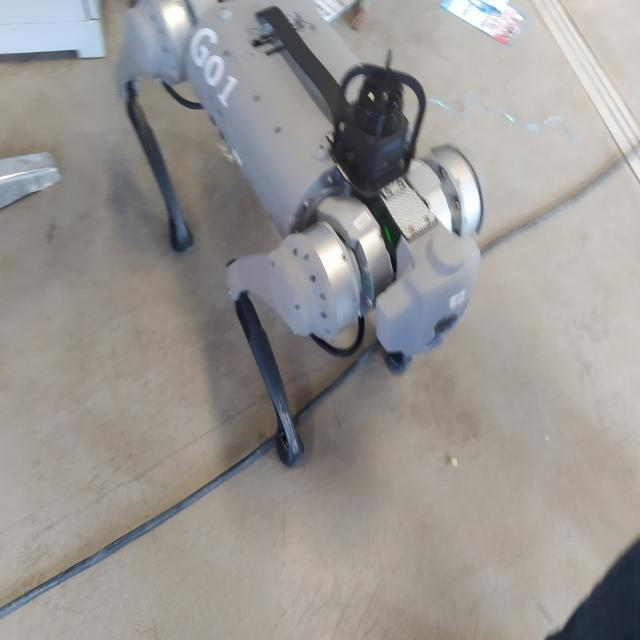unitree-go1-robot: (99, 0, 499, 470)
